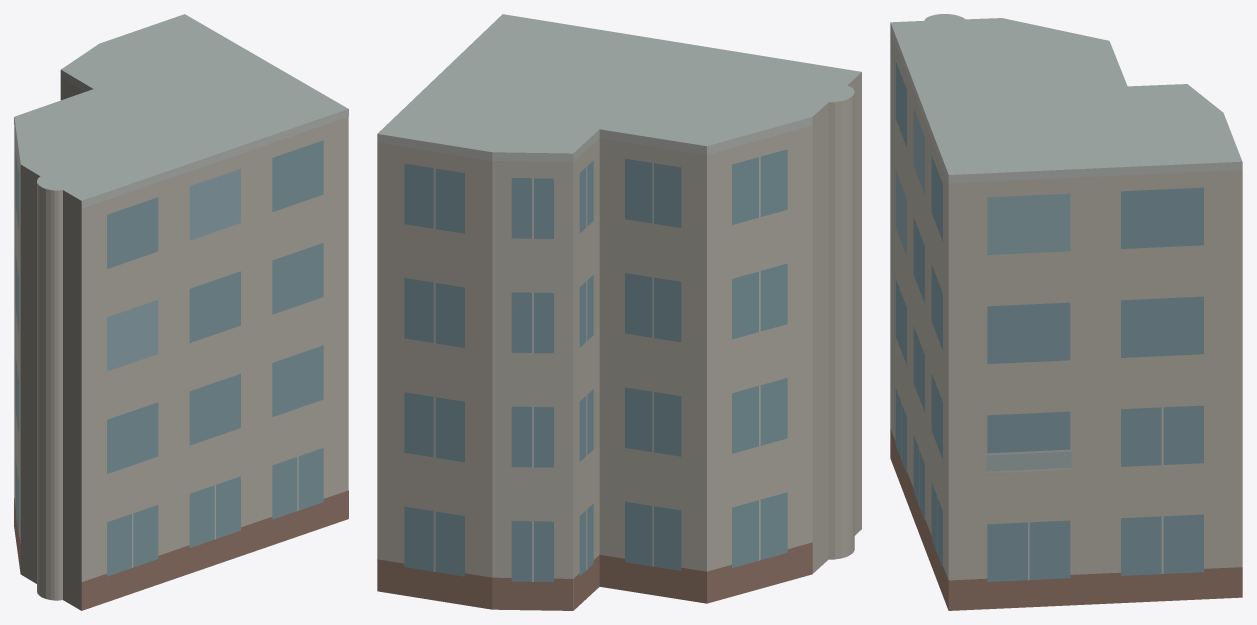
File: survey-upis-32517313.glb
3 views of the same model, side by side, from view 1: azimuth 30°, elevation 25°; view 2: azimuth 150°, elevation 25°; view 3: azimuth 270°, elevation 25° (orthographic). The views are drawn at different scales.
Visible parts, largest first — view 1: survey-upis-32517313.tmp; view 2: survey-upis-32517313.tmp; view 3: survey-upis-32517313.tmp.
Boxes of the visible parts, bbox=[...] form: survey-upis-32517313.tmp: bbox=[14, 14, 348, 610]; survey-upis-32517313.tmp: bbox=[377, 14, 861, 610]; survey-upis-32517313.tmp: bbox=[890, 14, 1242, 610].
Size of the model in its own units: 10.15 by 12.8 by 9.38.
